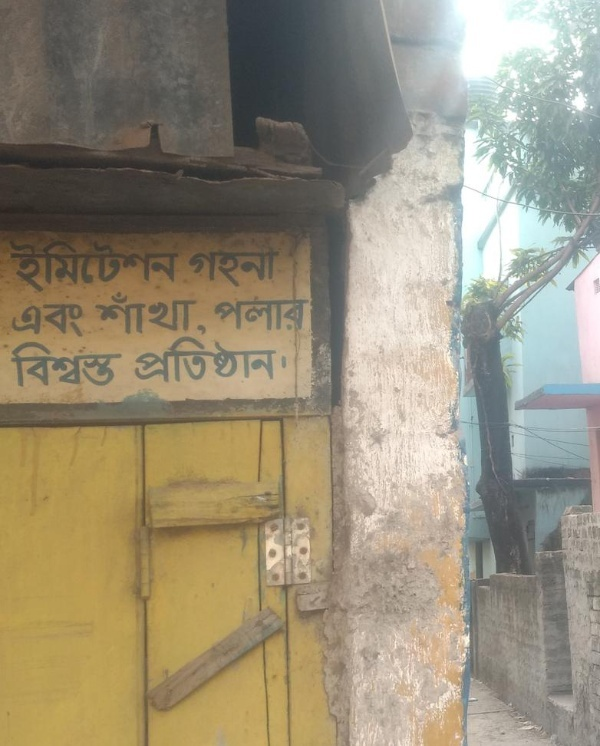text: (17, 239, 32, 294), (33, 239, 48, 294), (49, 239, 64, 294), (65, 239, 80, 294), (81, 239, 96, 294), (97, 239, 112, 294), (113, 239, 128, 294), (129, 239, 144, 294), (145, 239, 160, 294), (161, 239, 176, 294), (145, 334, 160, 383), (161, 334, 176, 383), (177, 334, 192, 383), (193, 334, 208, 383), (209, 334, 224, 383), (225, 334, 240, 383), (241, 334, 256, 383), (257, 334, 272, 383), (17, 342, 32, 388), (33, 342, 48, 388), (49, 342, 64, 388), (65, 342, 80, 388), (81, 342, 96, 388), (97, 342, 112, 388), (97, 292, 112, 336), (113, 292, 128, 336), (129, 292, 144, 336), (145, 292, 160, 336), (161, 292, 176, 336), (177, 292, 192, 336), (113, 342, 126, 388), (193, 251, 208, 289), (209, 251, 224, 289), (225, 251, 240, 289), (241, 251, 256, 289), (257, 251, 272, 289), (17, 301, 32, 338), (33, 301, 48, 338), (49, 301, 64, 338), (65, 301, 80, 338), (225, 300, 240, 334), (241, 300, 256, 334), (257, 300, 272, 334), (273, 300, 288, 334), (289, 300, 304, 334), (137, 334, 144, 383), (10, 239, 16, 294), (9, 342, 16, 388), (215, 300, 224, 334), (273, 334, 279, 383), (273, 251, 280, 289), (10, 301, 16, 338), (193, 292, 198, 336), (305, 300, 310, 334), (177, 239, 179, 294), (190, 251, 192, 289), (81, 301, 83, 338), (95, 292, 96, 336)
